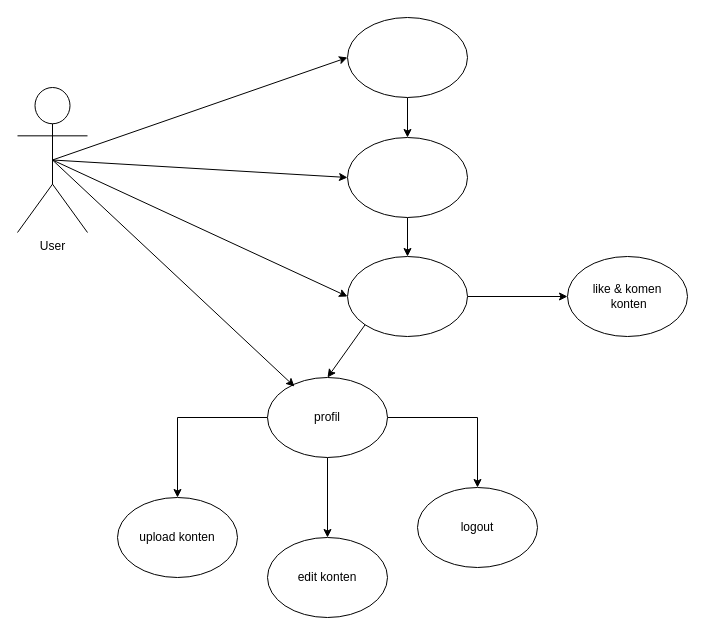
Image size: 705x635. Some labels were removed from this diagram. The box of each missing label's shape, as (x1, y1, x2, y2) in pixels:
Beranda: (346, 256, 468, 336)
login: (346, 136, 468, 218)
pendaftaran: (346, 16, 468, 98)
